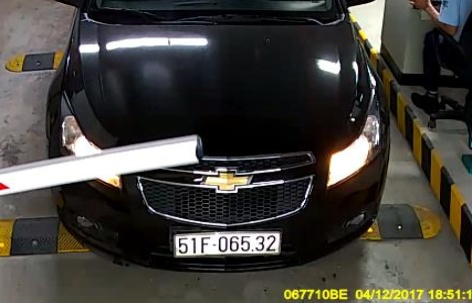plate: (174, 231, 282, 258)
